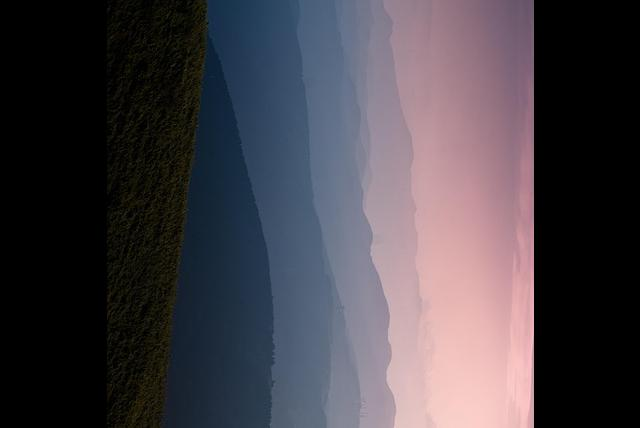Non_Gorille: (204, 0, 473, 379)
